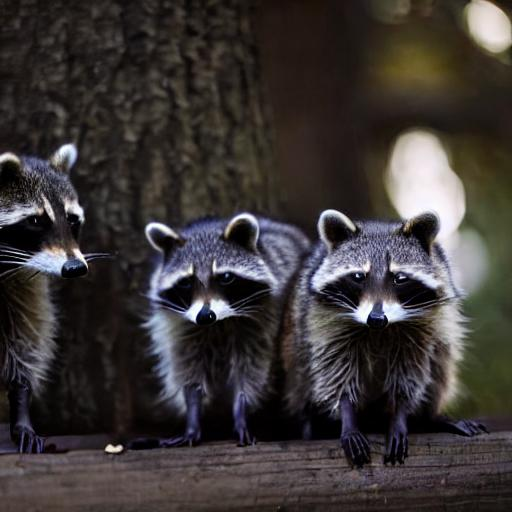raccoon: (282, 205, 476, 412), (136, 208, 310, 394), (0, 132, 107, 385)
